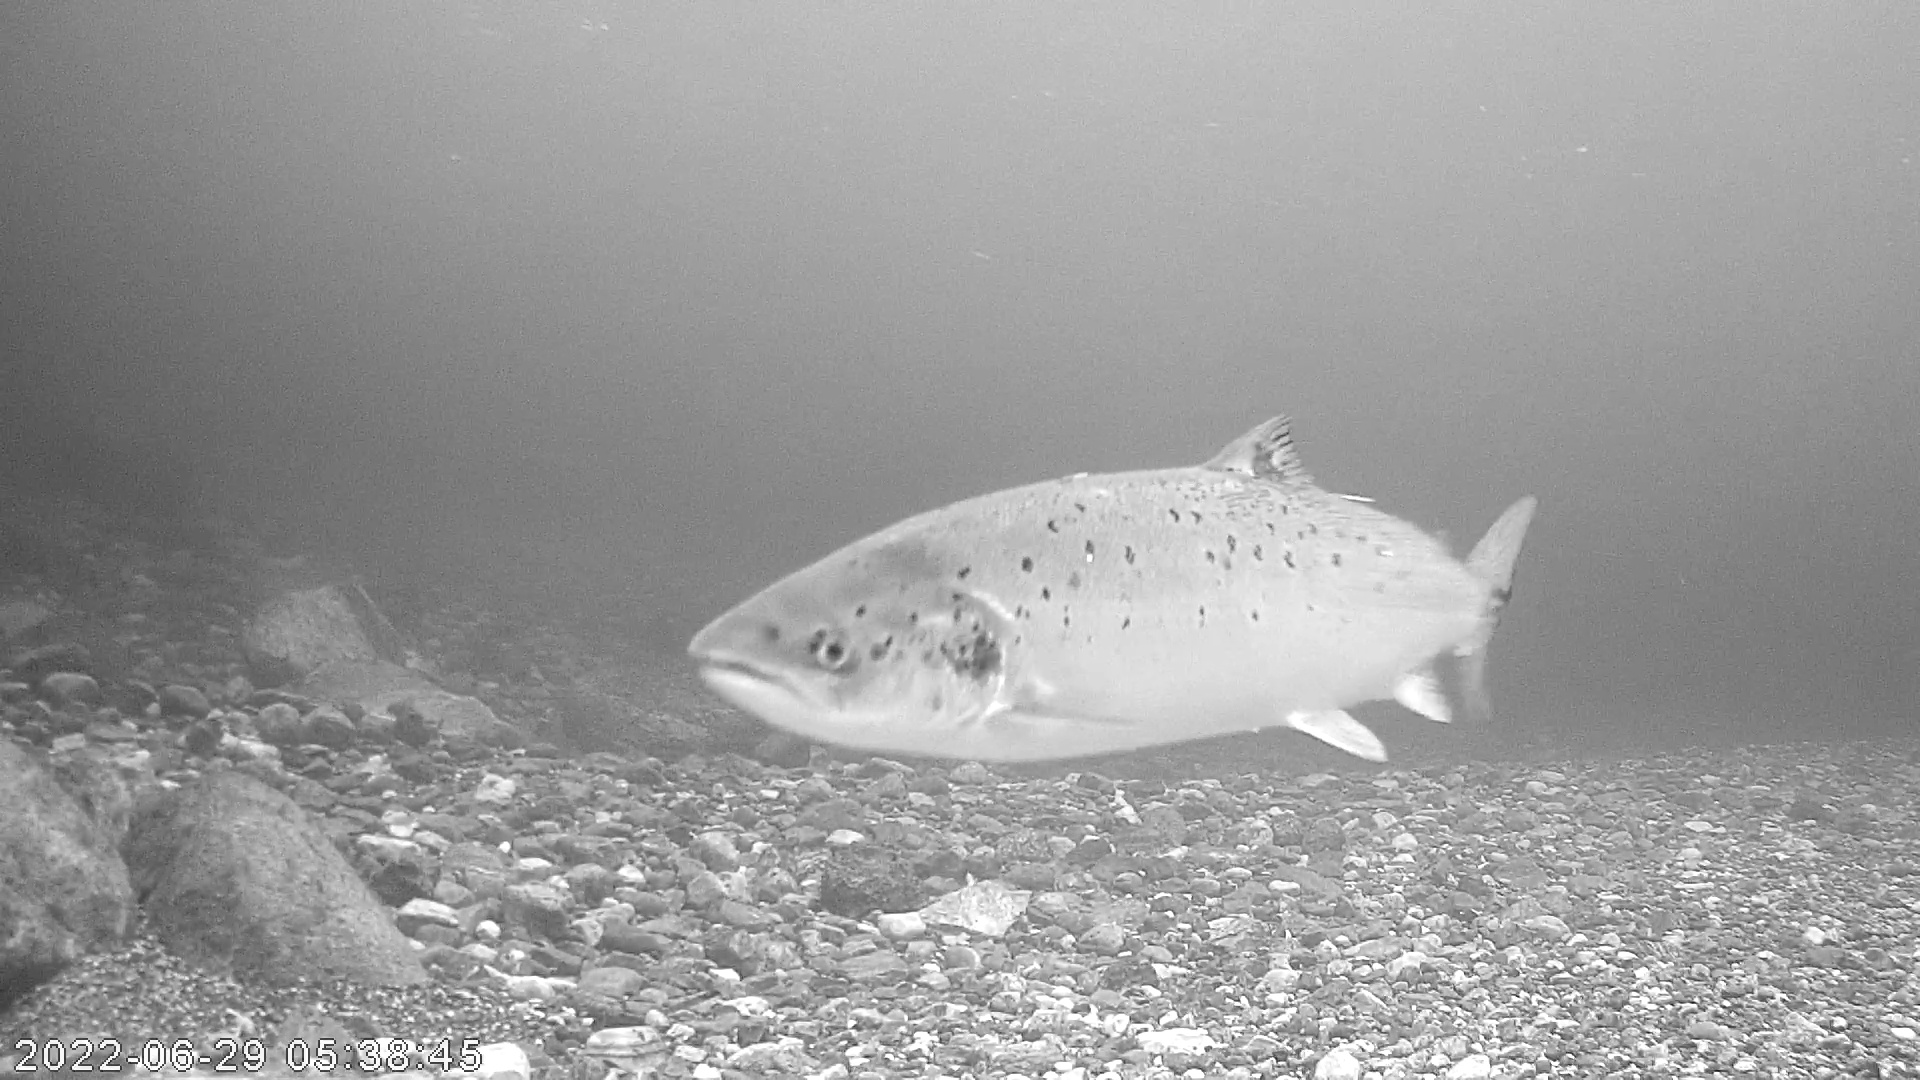salmon: (680, 334, 1531, 774)
